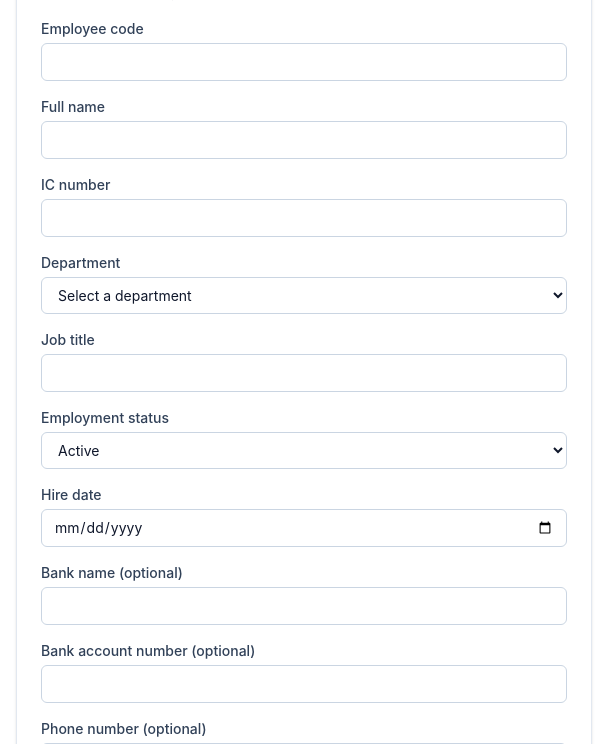
Test: EmployeeCreatePage › shows a duplicate-code error returned by the API
Type "DUP" into the field labelled "Employee code". click: (304, 62)
box: [41,43,567,81]
Type "New Hire" into the field labelled "Full name". click: (304, 140)
box: [41,121,567,159]
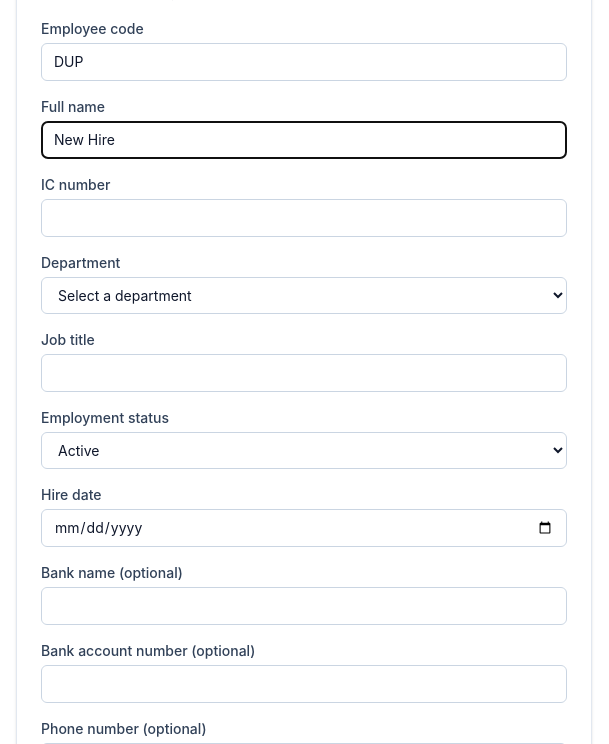
Type "900101-01-1234" into the field labelled "IC number". click: (304, 218)
box: [41,199,567,237]
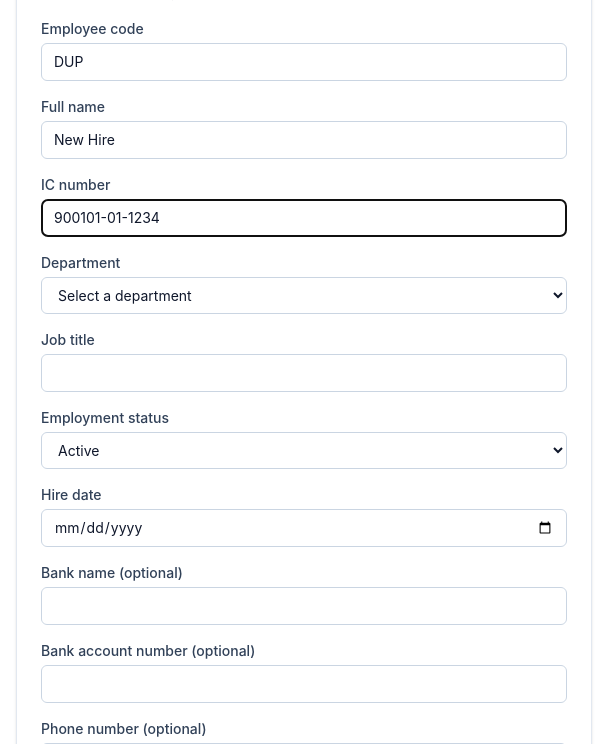
Select "Engineering" in the dropdown labelled "Department". click: (304, 296)
box: [41,277,567,314]
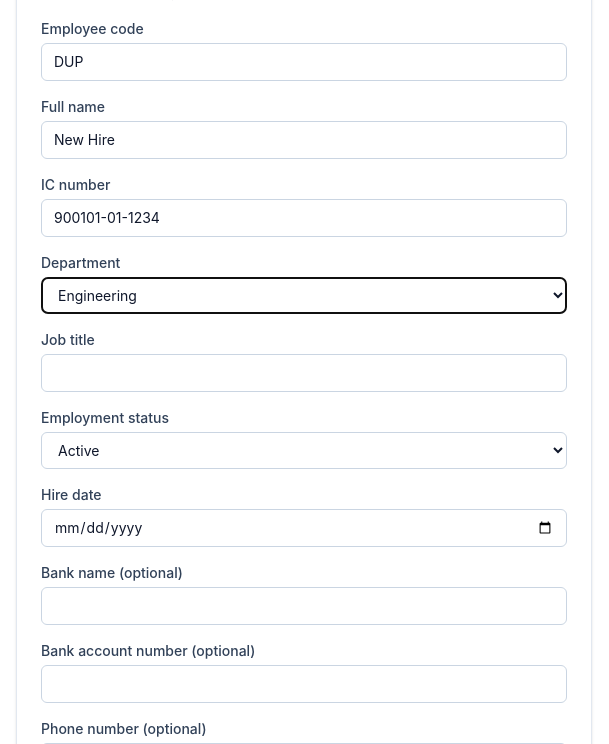
Type "Dev" into the field labelled "Job title". click: (304, 373)
box: [41,354,567,392]
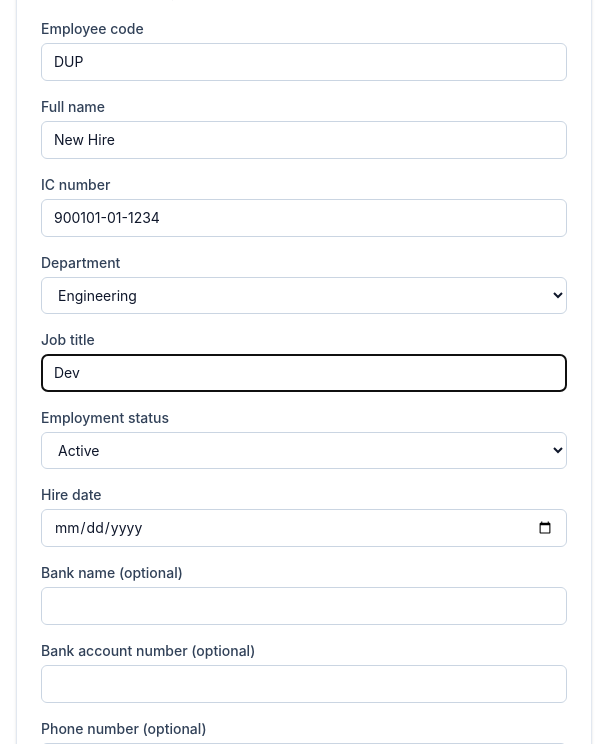
Type "2024-01-01" into the date field labelled "Hire date". click: (304, 528)
box: [41,509,567,547]
(page scrolled)
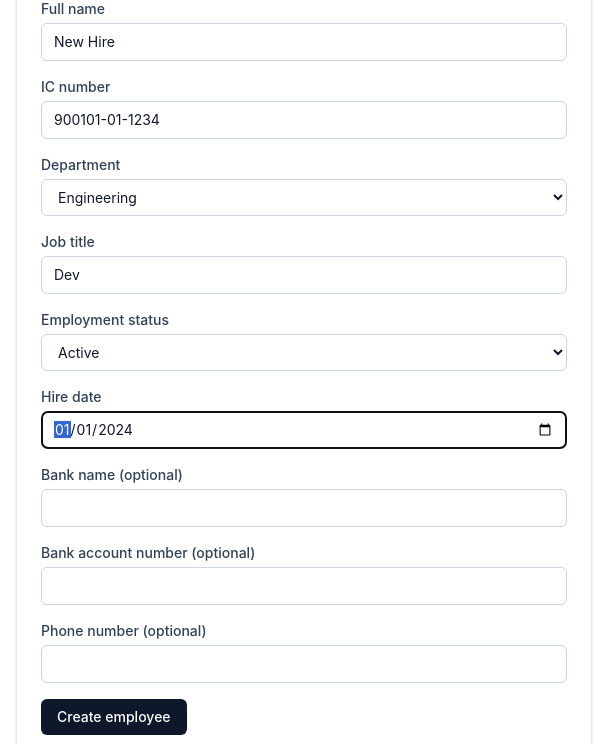
Click the button "Create employee". click: (114, 717)
box: [41,699,187,735]
(page scrolled)
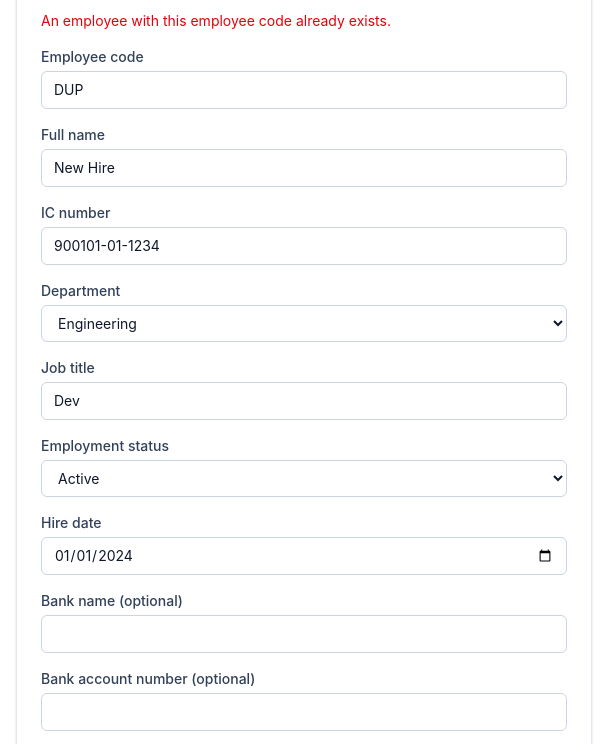
Expected: the text "An employee with this employee code already exists." is shown, [41,12,391,29]
